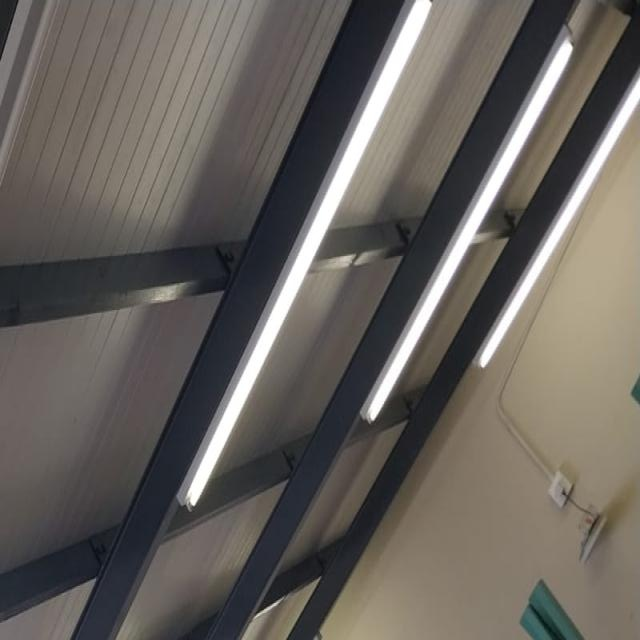fluorescent tube: (150, 0, 454, 548), (342, 18, 590, 462), (466, 43, 640, 401), (0, 0, 84, 640), (204, 602, 373, 640)
